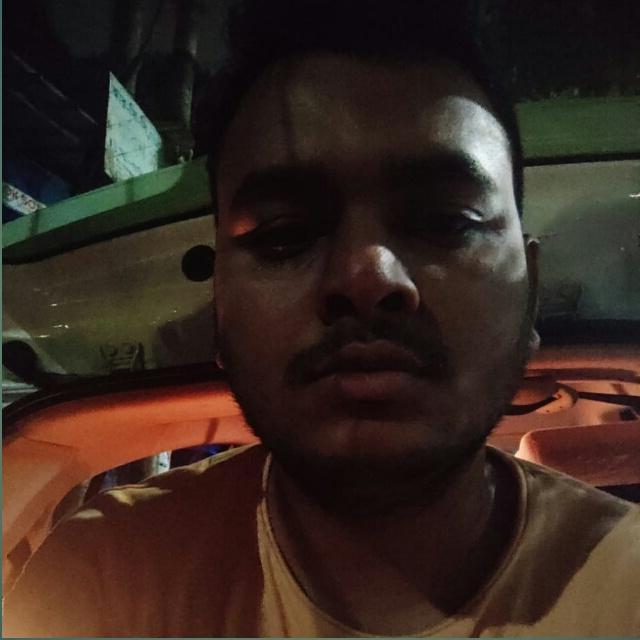angry: (199, 55, 550, 498)
